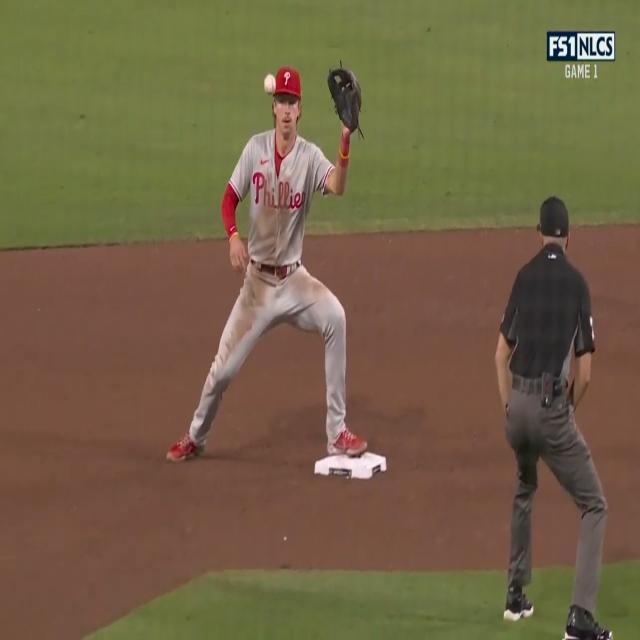baseball: (264, 74, 276, 96)
